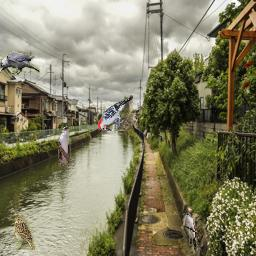Crow: (0, 51, 40, 76)
Cuckoo: (183, 213, 198, 253), (58, 126, 72, 166)
Sparrow: (14, 216, 35, 250)
Woodpecker: (98, 95, 133, 131)
